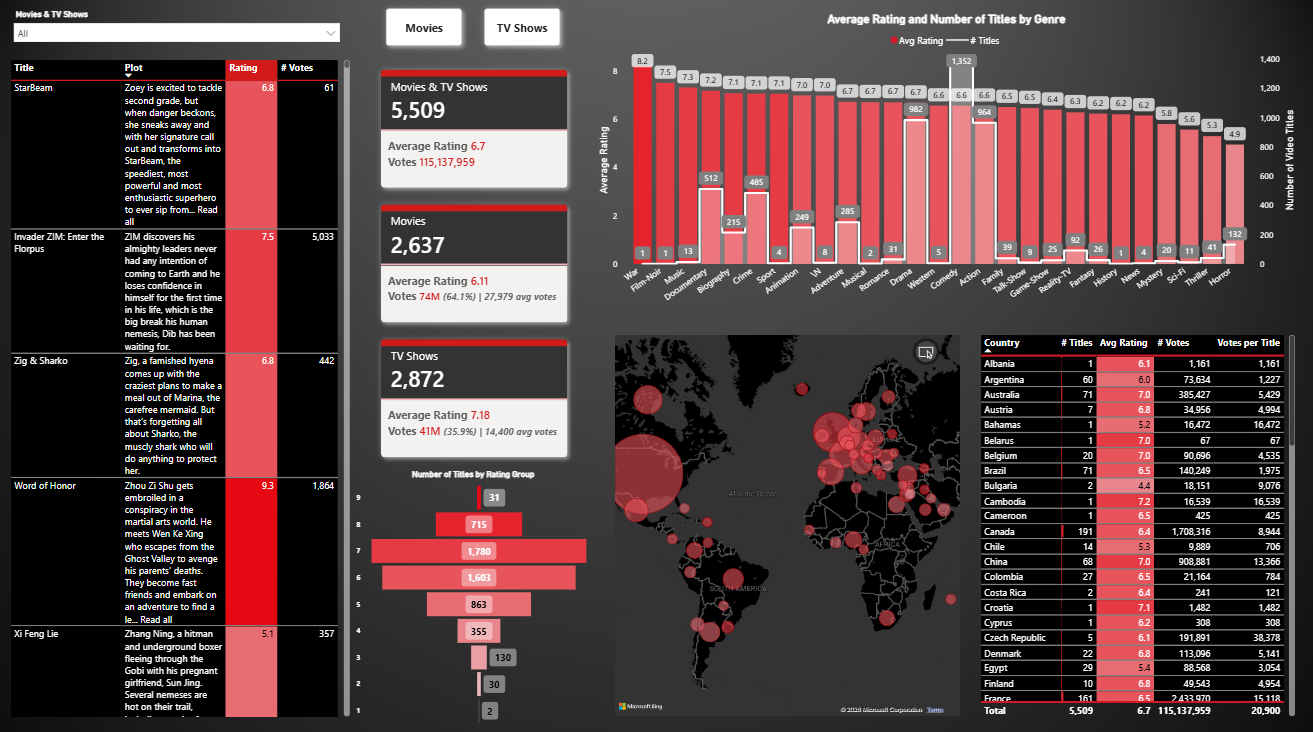

Layout of this report page (visuals, bound fields, positions):
{"tool":"powerbi","page":{"name":"Lab Tab","canvas":[1920,1080],"ordinal":1},"visuals":[{"type":"funnel","title":"Number of Titles by Rating Group","fields":{"Y":["calculation.# Titles"],"Category":["Listings.Rating Group"]},"box":[522,690,348,376],"z":1000},{"type":"cardVisual","fields":{"Data":["calculation.Titles","calculation.Movie Titles","calculation.TV Titles"]},"box":[544,94,304,596],"z":2000},{"type":"tableEx","fields":{"Values":["Listings.Title","Listings.Plot","calculation.Avg Rating","calculation.# Votes"]},"box":[20,92,502,960],"z":3000},{"type":"slicer","fields":{"Values":["Listings.Title"]},"box":[20,18,492,64],"z":4000},{"type":"advancedSlicerVisual","fields":{"Values":["Listings.listing type filter value"]},"box":[552,6,286,88],"z":5000},{"type":"lineStackedColumnComboChart","title":"Average Rating and Number of Titles by Genre","fields":{"Category":["Listings.Genre"],"Y":["calculation.Avg Rating"],"Y2":["calculation.# Titles"]},"box":[870,28,1020,442],"z":6000},{"type":"tableEx","fields":{"Values":["Listings.Country","calculation.# Titles","calculation.Avg Rating","calculation.# Votes","calculation.Votes per Title"]},"box":[1424,490,466,562],"z":7000},{"type":"map","fields":{"Category":["Listings.Country"],"Size":["calculation.# Titles"]},"box":[896,490,510,562],"z":8002}]}

Visuals, with their boxes in screenshot pixels (x1, y1, x2, y2), scaled from the page's 1920x1080 canvas onto the 1313x732 screenshot:
"Number of Titles by Rating Group" funnel: [x1=357, y1=468, x2=595, y2=723]
cardVisual - calculation.Titles x calculation.Movie Titles: [x1=372, y1=64, x2=580, y2=468]
tableEx - Listings.Title x Listings.Plot: [x1=14, y1=62, x2=357, y2=713]
slicer - Listings.Title: [x1=14, y1=12, x2=350, y2=56]
advancedSlicerVisual - Listings.listing type filter value: [x1=377, y1=4, x2=573, y2=64]
"Average Rating and Number of Titles by Genre" lineStackedColumnComboChart: [x1=595, y1=19, x2=1292, y2=319]
tableEx - Listings.Country x calculation.# Titles: [x1=974, y1=332, x2=1292, y2=713]
map - Listings.Country x calculation.# Titles: [x1=613, y1=332, x2=961, y2=713]
